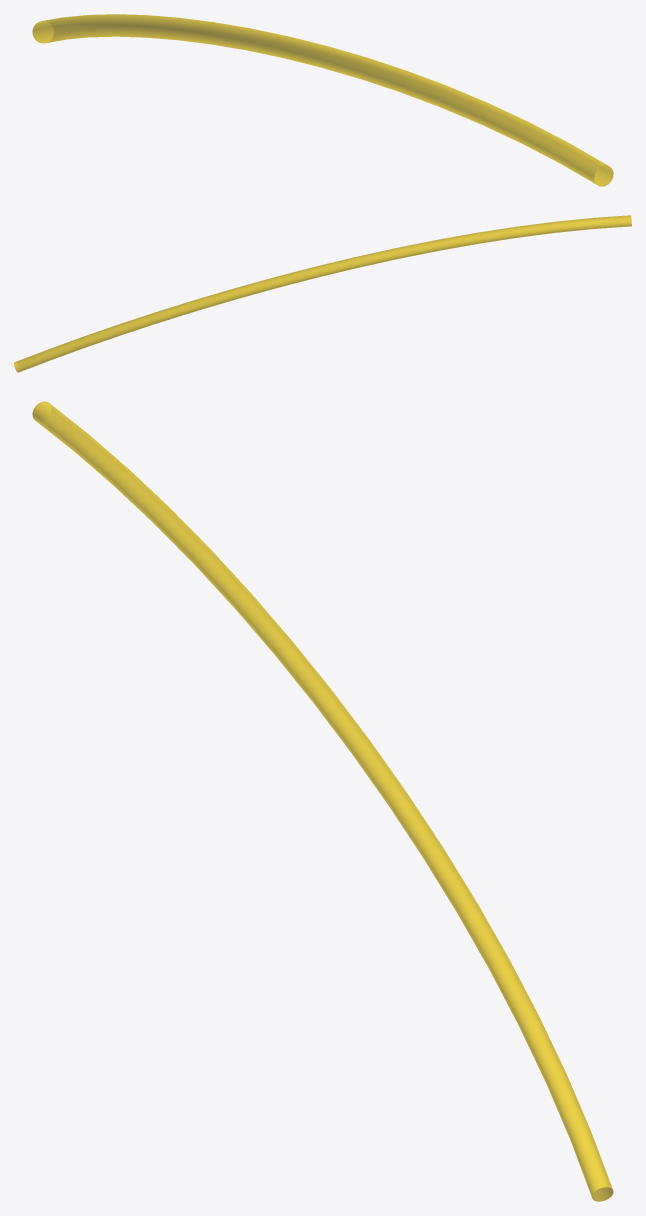
Rendered from Event_15818458_track_4.fbx.
3 views of the same model, one above another, from view 1: azimuth 90°, elevation 25°; view 2: azimuth 150°, elevation 25°; view 3: azimuth 270°, elevation 25° (orthographic). The views are drawn at different scales.
Visible parts, largest first — view 1: Model; view 2: Model; view 3: Model.
Boxes of the visible parts, <box> form: Model: <box>32,14,613,186</box>; Model: <box>14,215,631,372</box>; Model: <box>32,401,613,1201</box>.
Size of the model in its own units: 1.97 by 0.6634 by 1.03.
